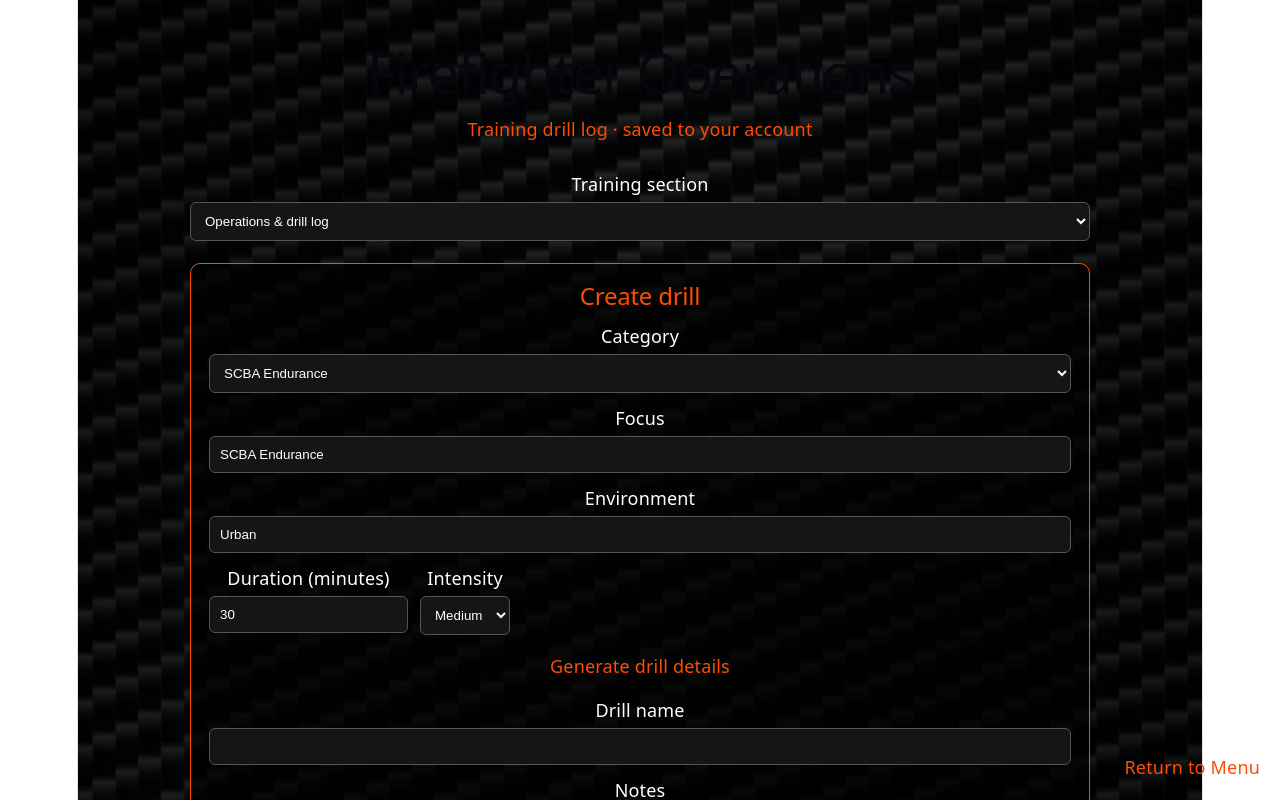
Test: Firefighters drill workspace › generates, saves, completes, and deletes a server-backed drill
What coordinates should you click on to do the following:
click the button "Generate drill details"
I would click on:
 (640, 666)
Its box is [550,647,730,685].
(page scrolled)
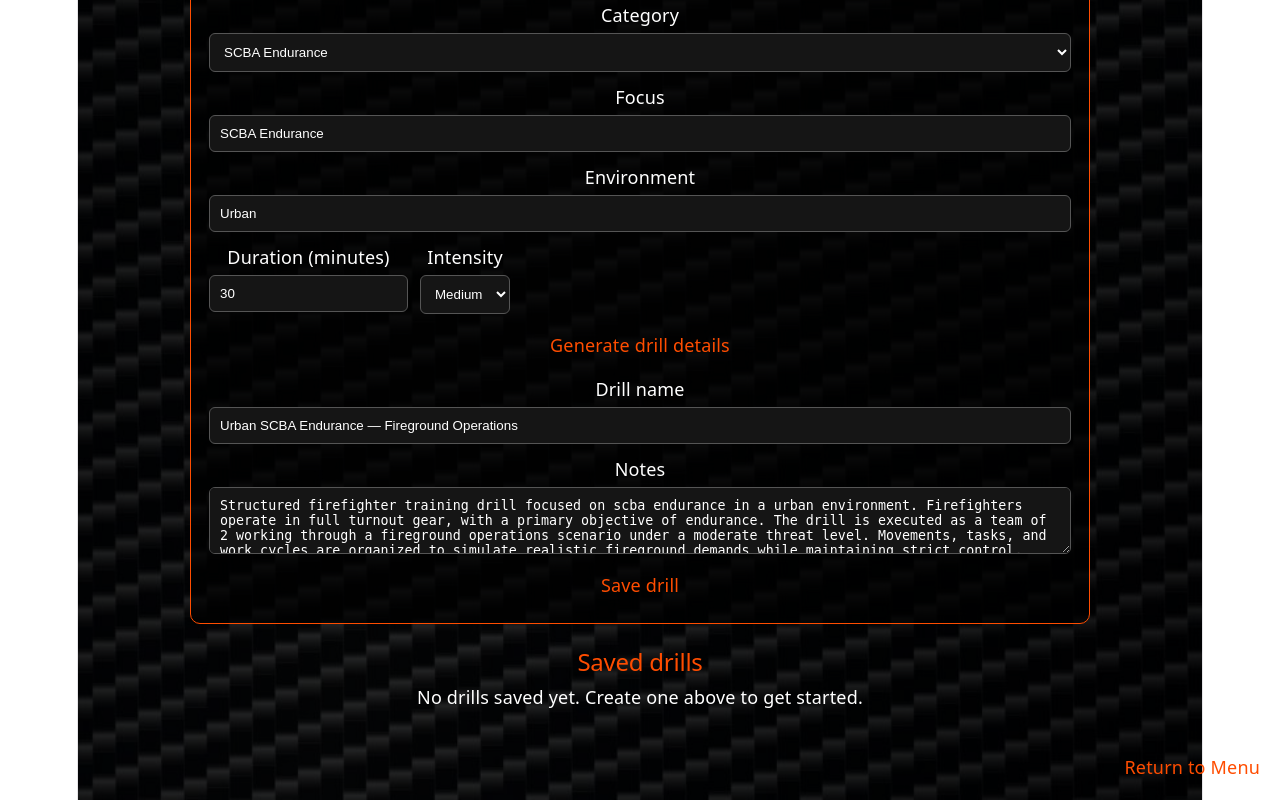
What coordinates should you click on to do the following:
click the button "Save drill"
I would click on:
 (640, 586)
Its box is [601,566,679,605].
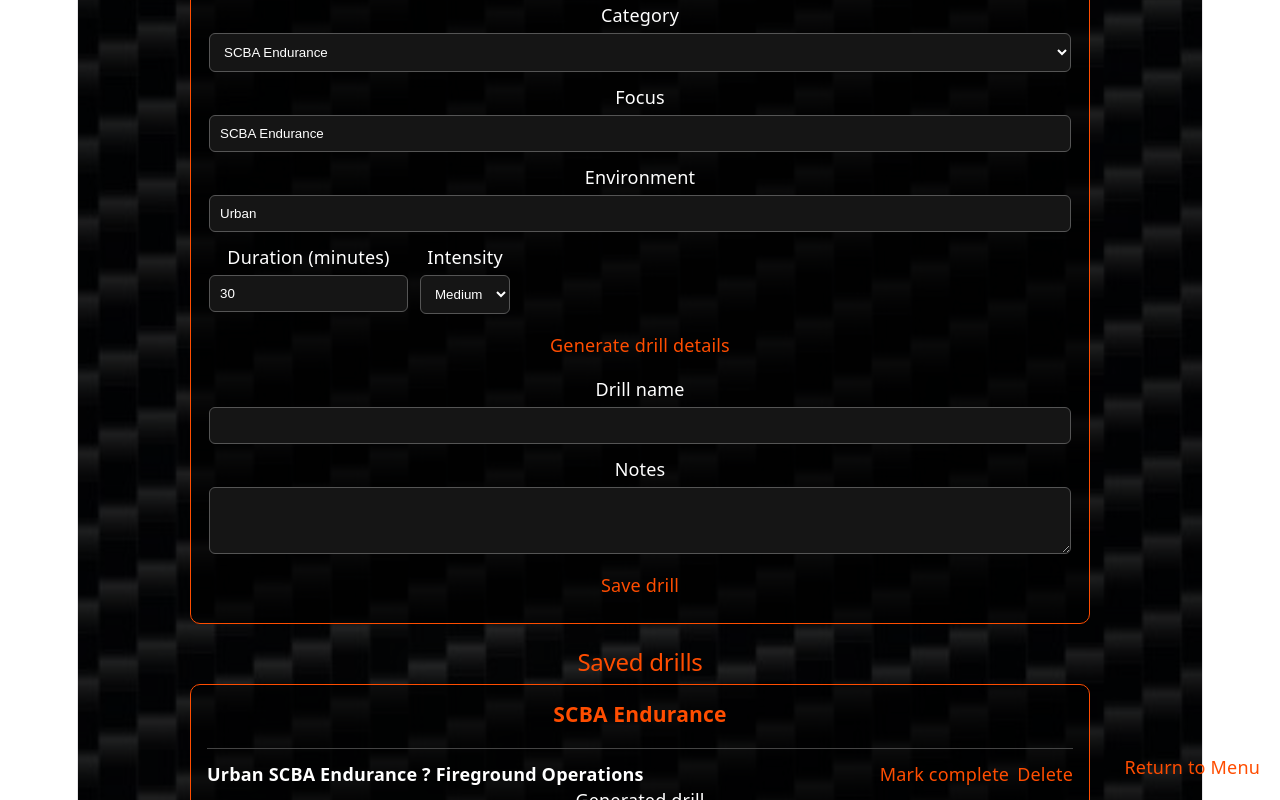
Now the text "Urban SCBA Endurance ? Fireground Operations" is shown, box [207,761,644,787]
What coordinates should you click on to do the following:
click the button "Mark complete"
I would click on:
 (944, 774)
Its box is [880,761,1009,787].
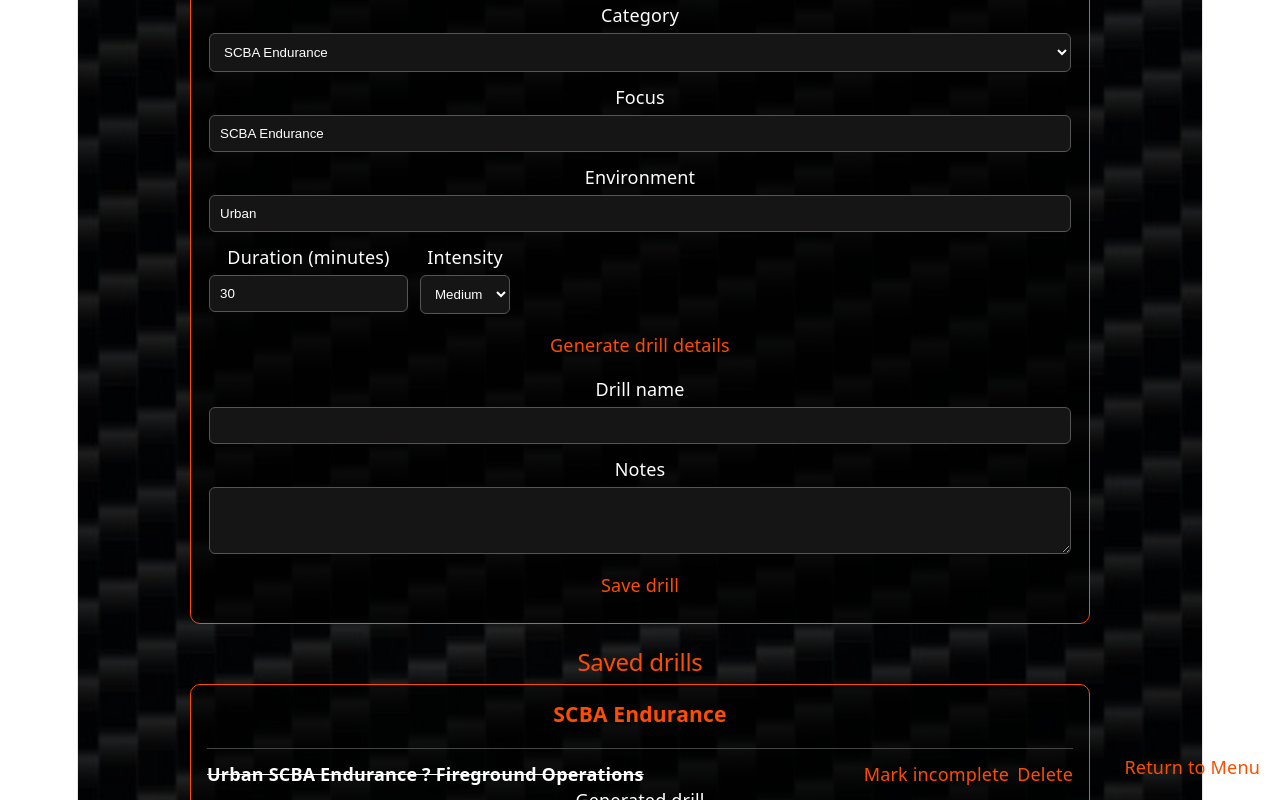
Now the button "Mark incomplete" is shown, box [864,761,1009,787]
What coordinates should you click on to do the following:
click the button "Delete"
I would click on:
 (1045, 774)
Its box is [1017,761,1073,787].
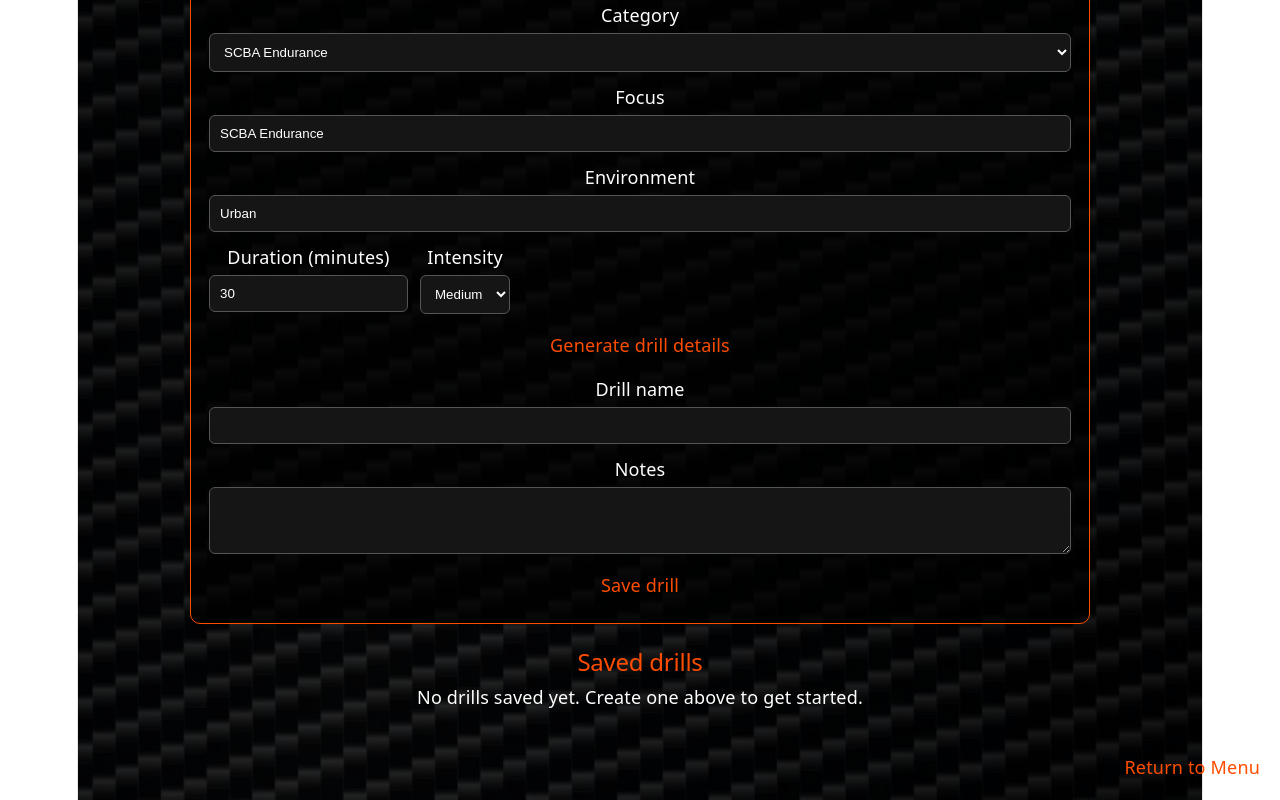
Now the text "Urban SCBA Endurance ? Fireground Operations" is gone
